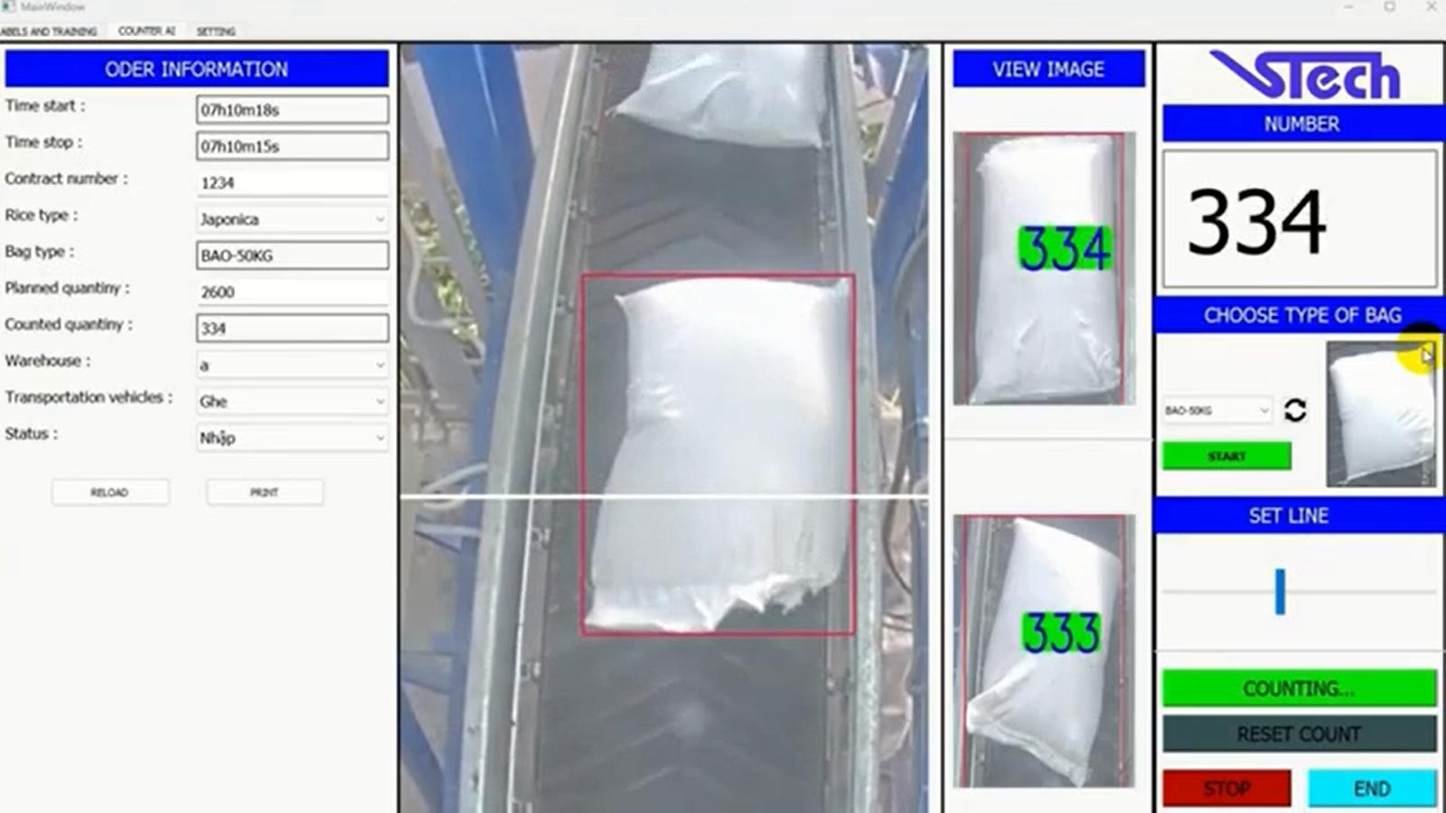rice-bag: (587, 278, 854, 632), (960, 134, 1122, 404), (966, 520, 1117, 785)
